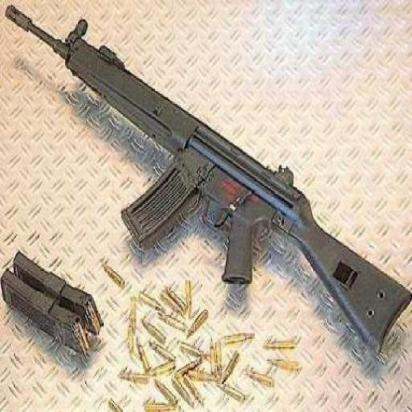Gun: (6, 3, 411, 351)
